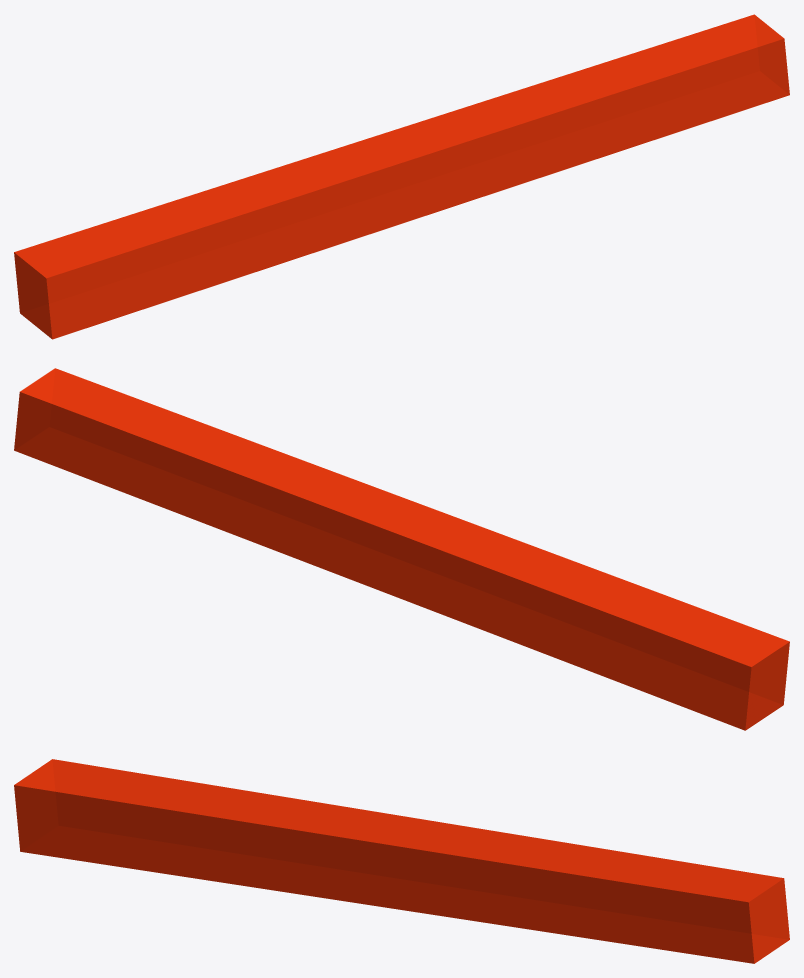
The model's file is Event_421556567_EErechit_48.fbx.
3 views of the same model, one above another, from view 1: azimuth 30°, elevation 25°; view 2: azimuth 150°, elevation 25°; view 3: azimuth 330°, elevation 25° (orthographic). The views are drawn at different scales.
Parts seen in each view (by area): view 1: Model; view 2: Model; view 3: Model.
Part boxes in pixels (x1,y1,x2,y2): Model: [14, 14, 789, 339]; Model: [14, 368, 789, 730]; Model: [14, 759, 789, 963].
Size of the model in its own units: 0.9529 by 0.1721 by 0.1142.
